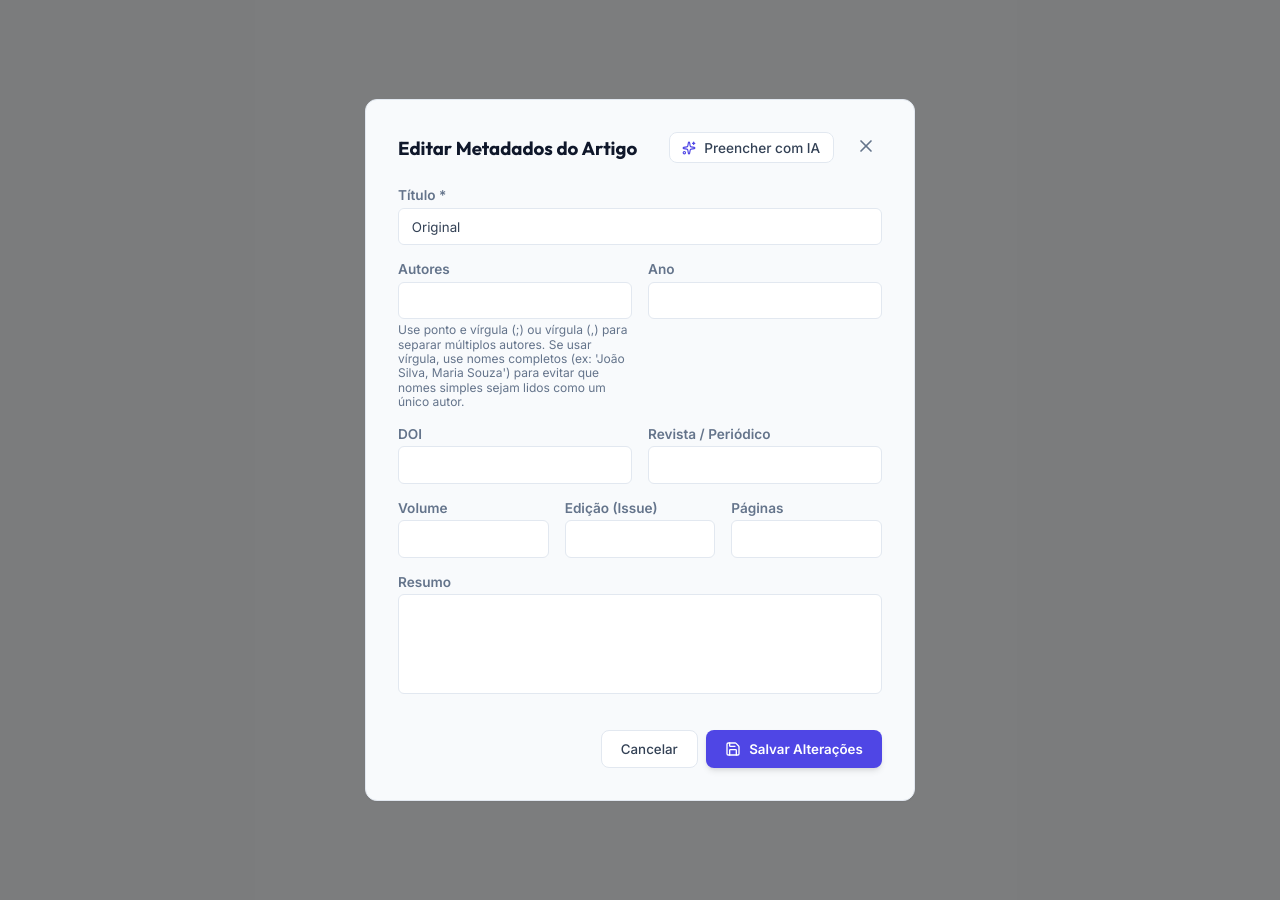
it: EditArticleModal AI fill › routes typed user-facing errors to the global error modal
The image size is (1280, 900).
Click the button "Preencher com IA" at [751, 148], box [668,132,834,163]
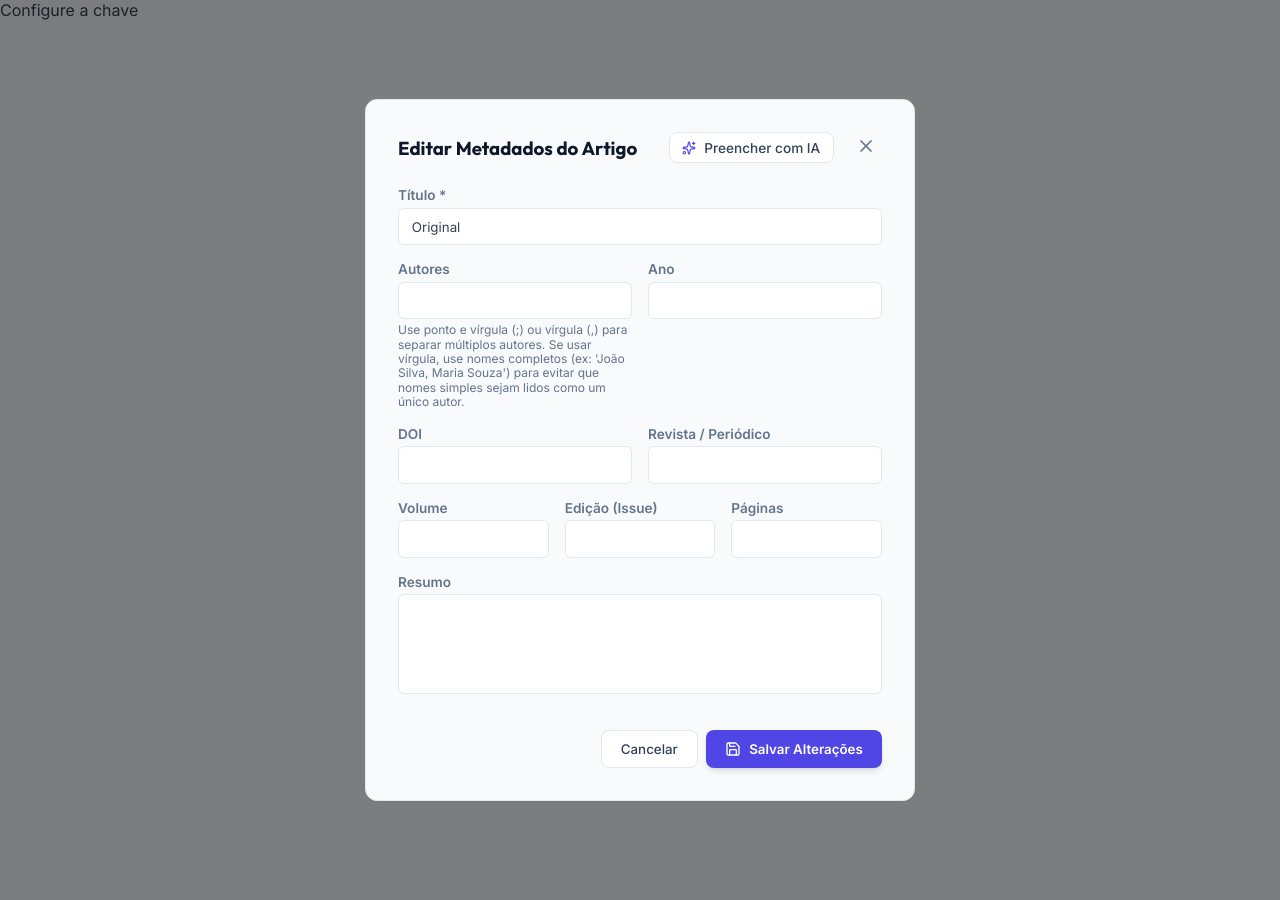
Result: the text "Configure a chave" is shown at [0,0,138,20]
